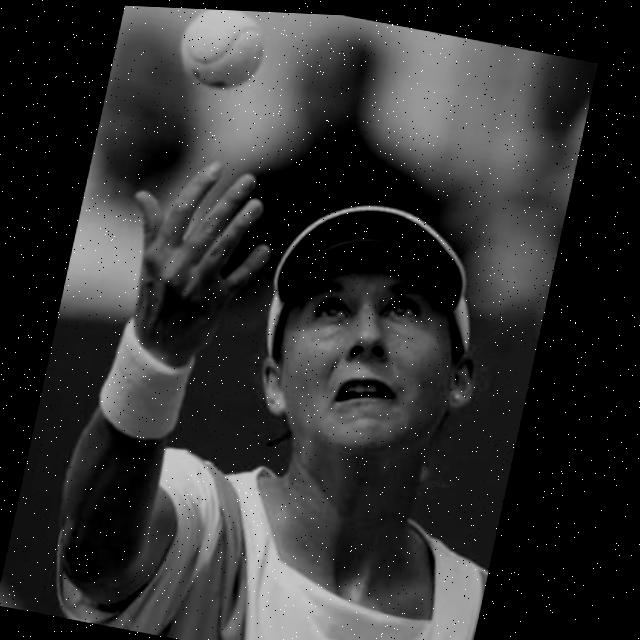face: (217, 202, 521, 511)
